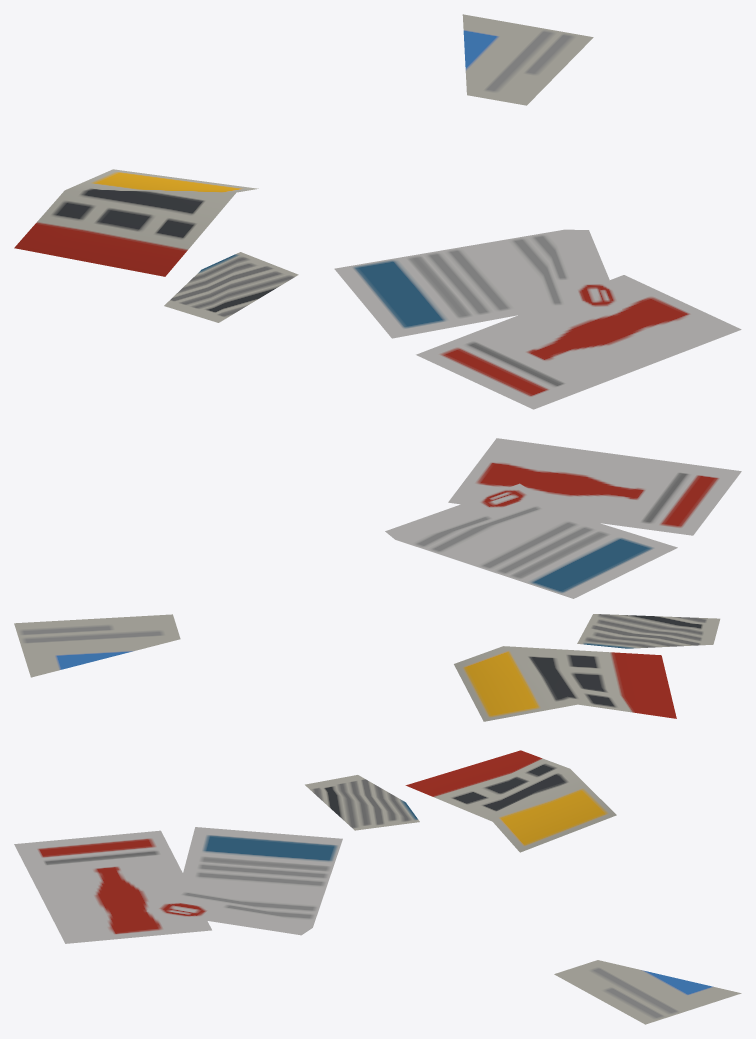
Rendered from SM_Props_Papers_04.fbx.
The picture shows the model from 3 angles, top to bottom: view 1: azimuth 30°, elevation 25°; view 2: azimuth 150°, elevation 25°; view 3: azimuth 270°, elevation 25°; orthographic projection. The views are drawn at different scales.
Visible parts, largest first — view 1: SM_Props_Papers_04; view 2: SM_Props_Papers_04; view 3: SM_Props_Papers_04.
Part boxes in pixels (bbox=[...]): SM_Props_Papers_04: bbox=[14, 14, 741, 409]; SM_Props_Papers_04: bbox=[14, 438, 741, 721]; SM_Props_Papers_04: bbox=[14, 750, 741, 1024].
Size of the model in its own units: 117 by 3.26 by 131.
